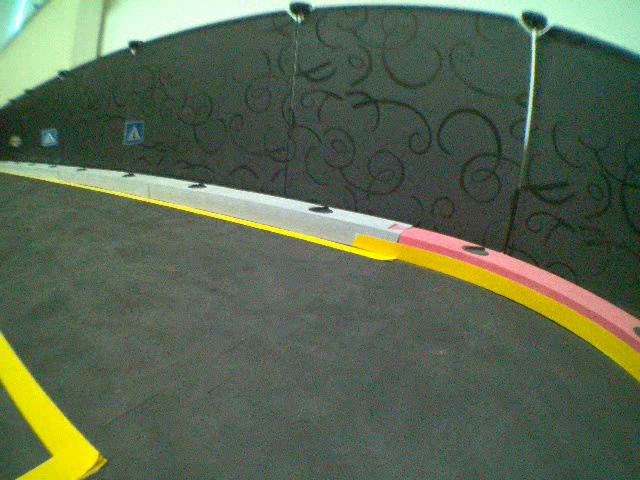crossing: (120, 118, 147, 146), (37, 127, 62, 148)
